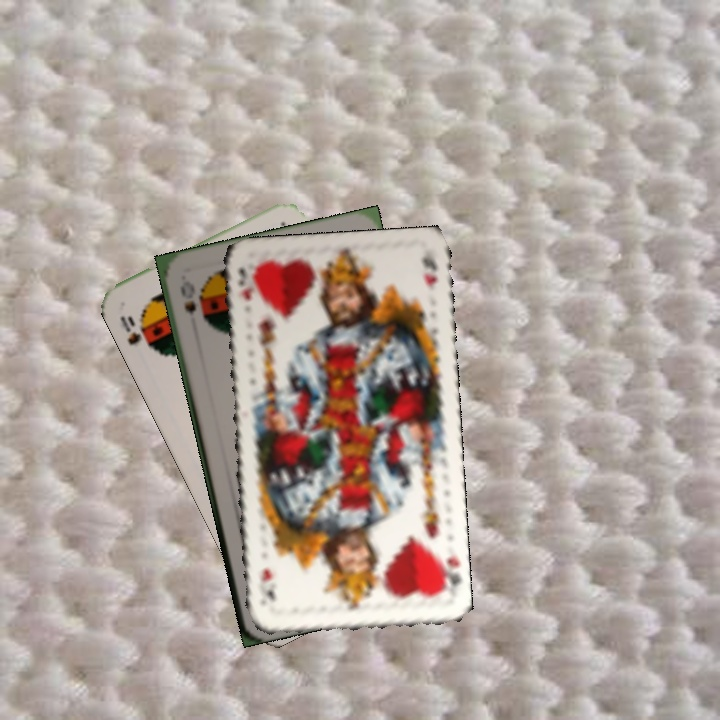HK: (433, 548, 462, 597), (234, 262, 258, 303)
SO: (116, 311, 144, 348), (176, 277, 199, 317)
